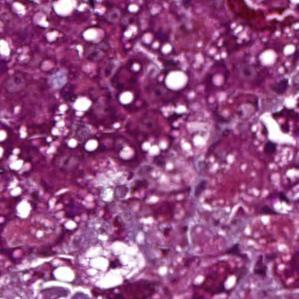ballooning: (74, 237, 150, 292)
